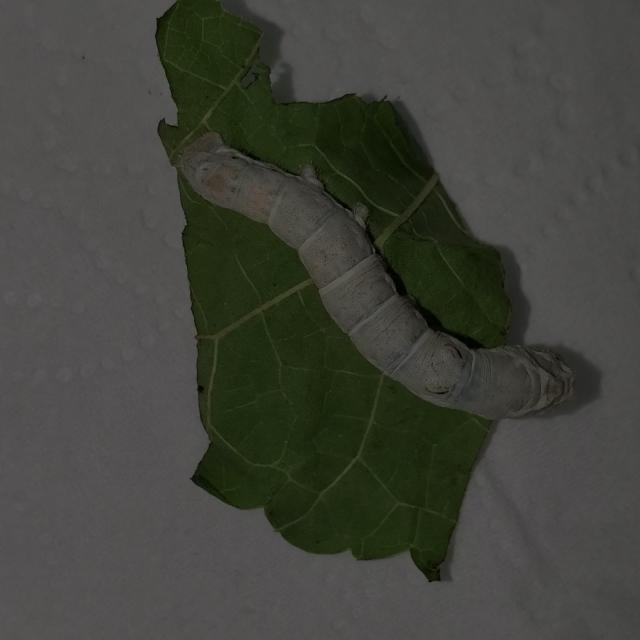Healthy: (134, 111, 612, 514)
